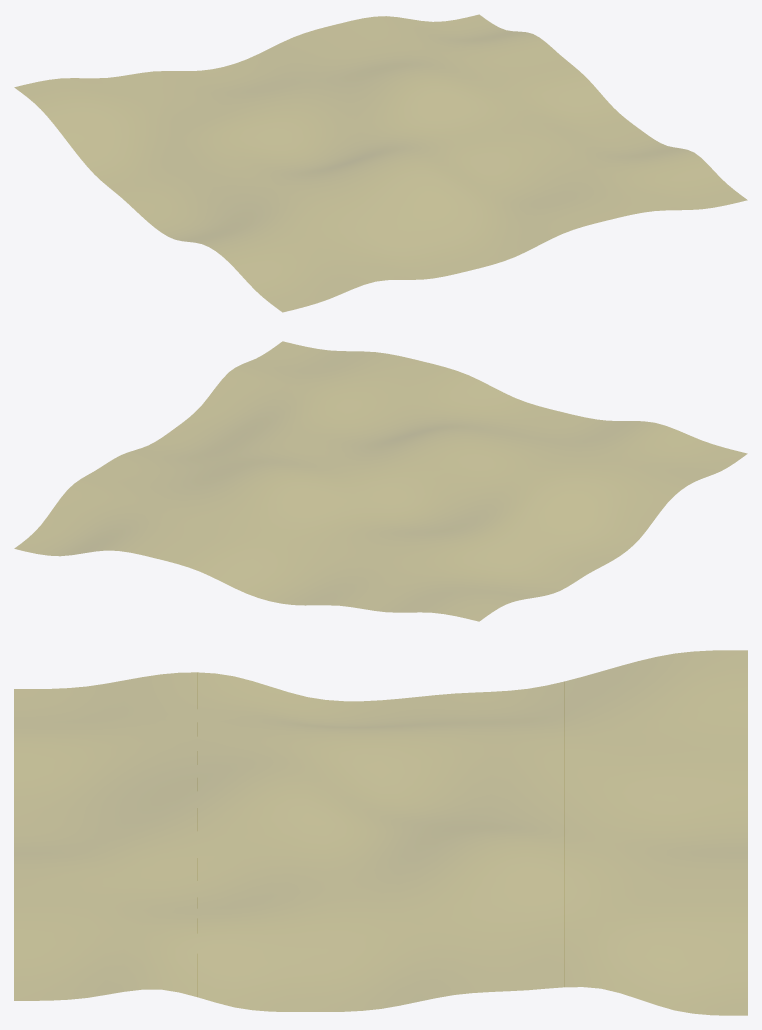
File: NewFog.fbx
3 views of the same model, one above another, from view 1: azimuth 30°, elevation 25°; view 2: azimuth 150°, elevation 25°; view 3: azimuth 270°, elevation 25° (orthographic). The views are drawn at different scales.
Parts seen in each view (by area): view 1: pPlane1; view 2: pPlane1; view 3: pPlane1.
Part boxes in pixels (x1,y1,x2,y2): pPlane1: (14, 14, 746, 312); pPlane1: (14, 341, 746, 621); pPlane1: (14, 650, 747, 1015).
Bounding box in the file's own units: 1 × 0.0912 × 1.
